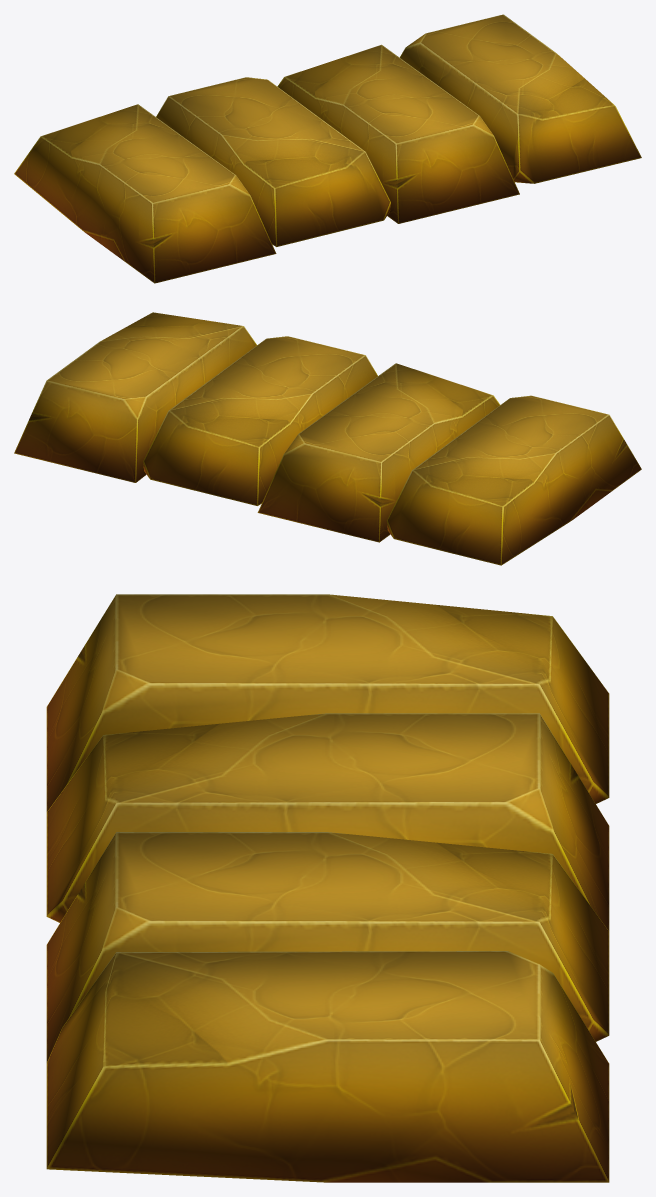
Rendered from Gold-19.fbx.
3 views of the same model, one above another, from view 1: azimuth 30°, elevation 25°; view 2: azimuth 150°, elevation 25°; view 3: azimuth 270°, elevation 25° (orthographic). The views are drawn at different scales.
Visible parts, largest first — view 1: Gold-19; view 2: Gold-19; view 3: Gold-19.
Part boxes in pixels (left/top/right/bottom): Gold-19: left=14, top=14, right=641, bottom=283; Gold-19: left=14, top=312, right=641, bottom=565; Gold-19: left=46, top=594, right=609, bottom=1182.
Bounding box in the file's own units: 0.3 × 0.0375 × 0.15.
1 material, 1 textured.
